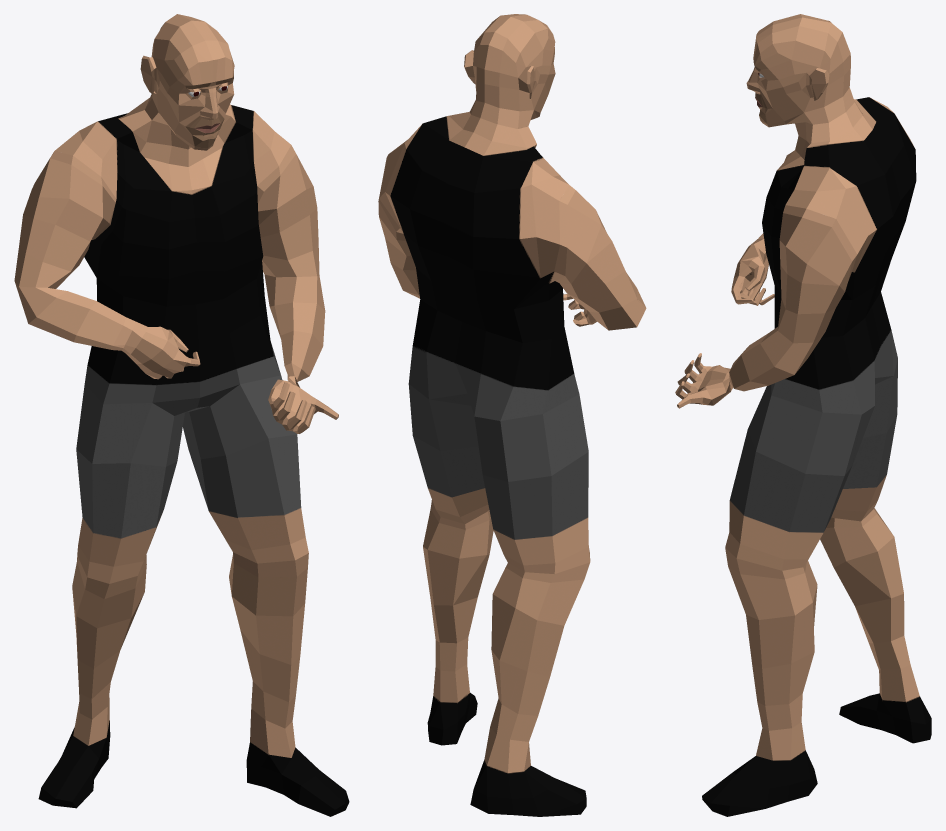
The model's file is PlayerIdle(58).obj.
The picture shows the model from 3 angles, left to right: view 1: azimuth 30°, elevation 25°; view 2: azimuth 150°, elevation 25°; view 3: azimuth 270°, elevation 25°; orthographic projection. The views are drawn at different scales.
Visible parts, largest first — view 1: Plane002; view 2: Plane002; view 3: Plane002.
Part boxes in pixels (x1,y1,x2,y2): Plane002: [14, 14, 349, 816]; Plane002: [378, 14, 646, 816]; Plane002: [675, 14, 931, 816].
Size of the model in its own units: 671 by 1801 by 562.
